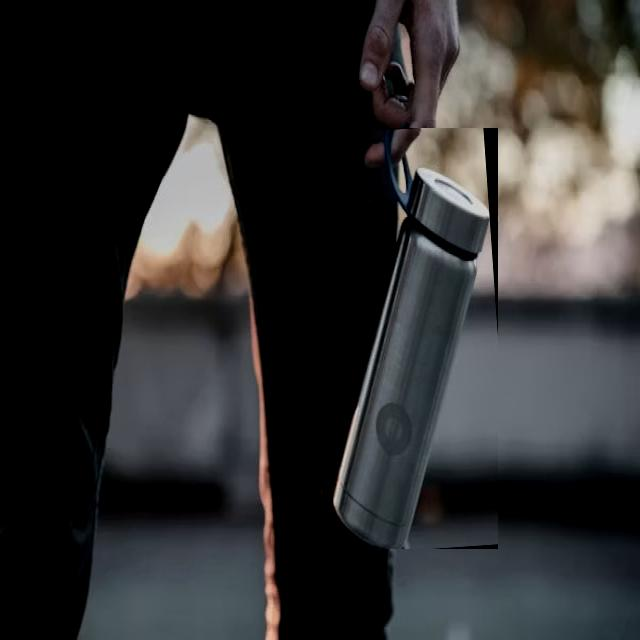Bottle: (323, 128, 498, 548)
